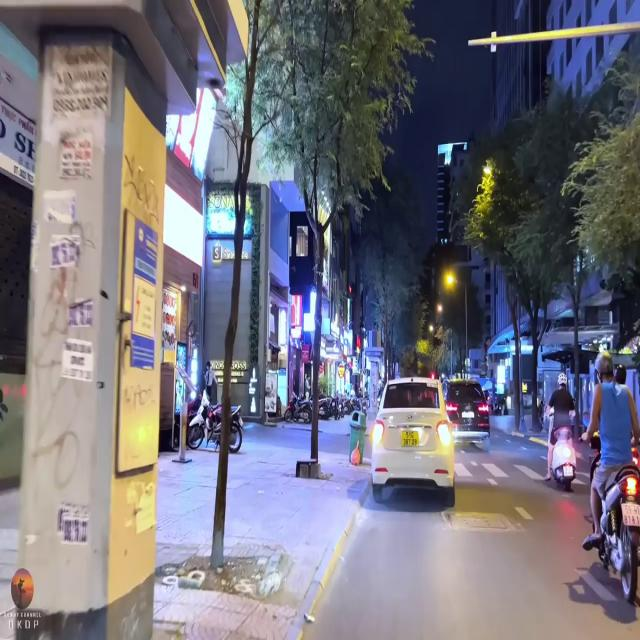bien_trang: (622, 500, 640, 529)
bien_vang: (401, 426, 421, 450)
